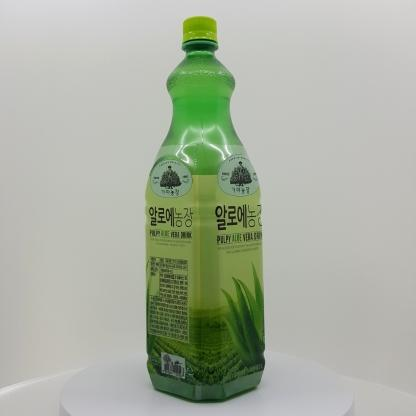-------1-5L: (145, 16, 265, 400)
